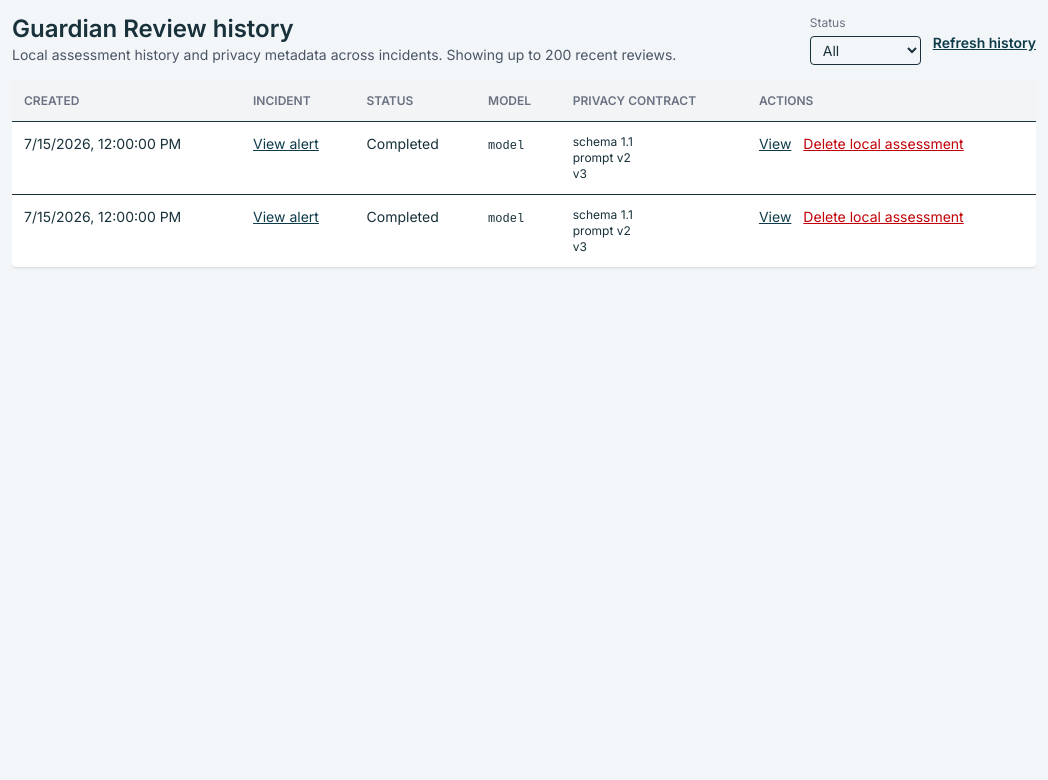
Test: Guardian Review global history › does not let a slower previously selected review replace the current one
This screenshot has width=1048, height=780.
Click the button with aria-label "View review older" at [775, 144], box [759, 134, 791, 154]
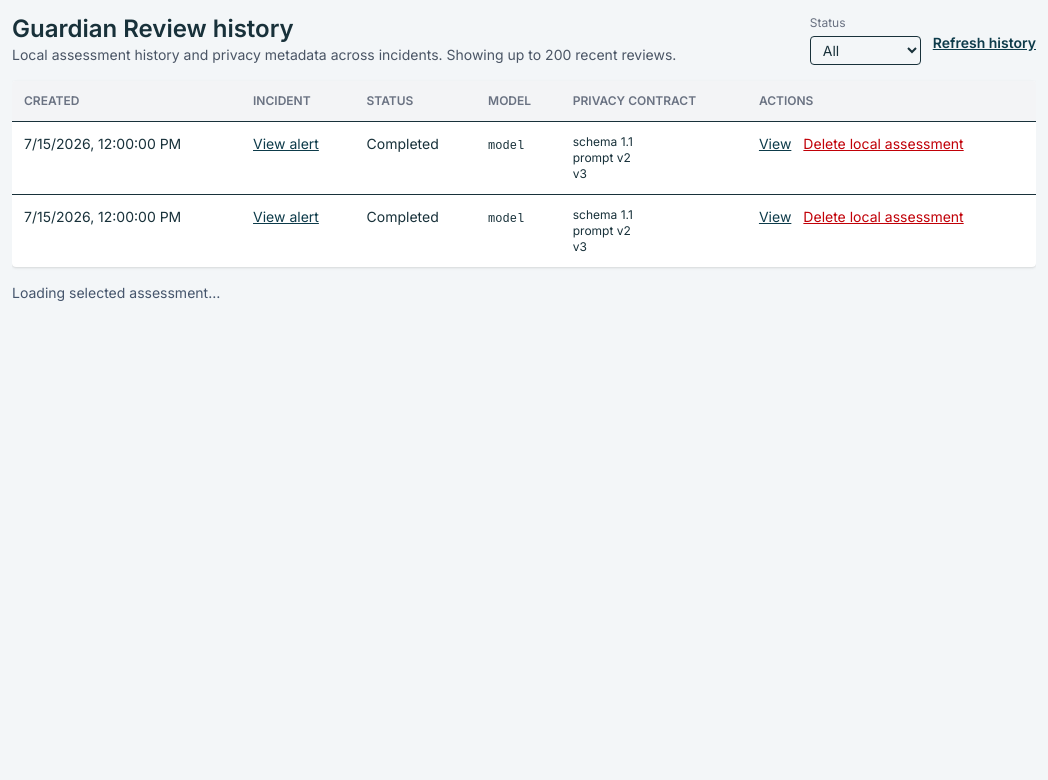
Click the button with aria-label "View review newer" at [775, 217], box [759, 207, 791, 227]
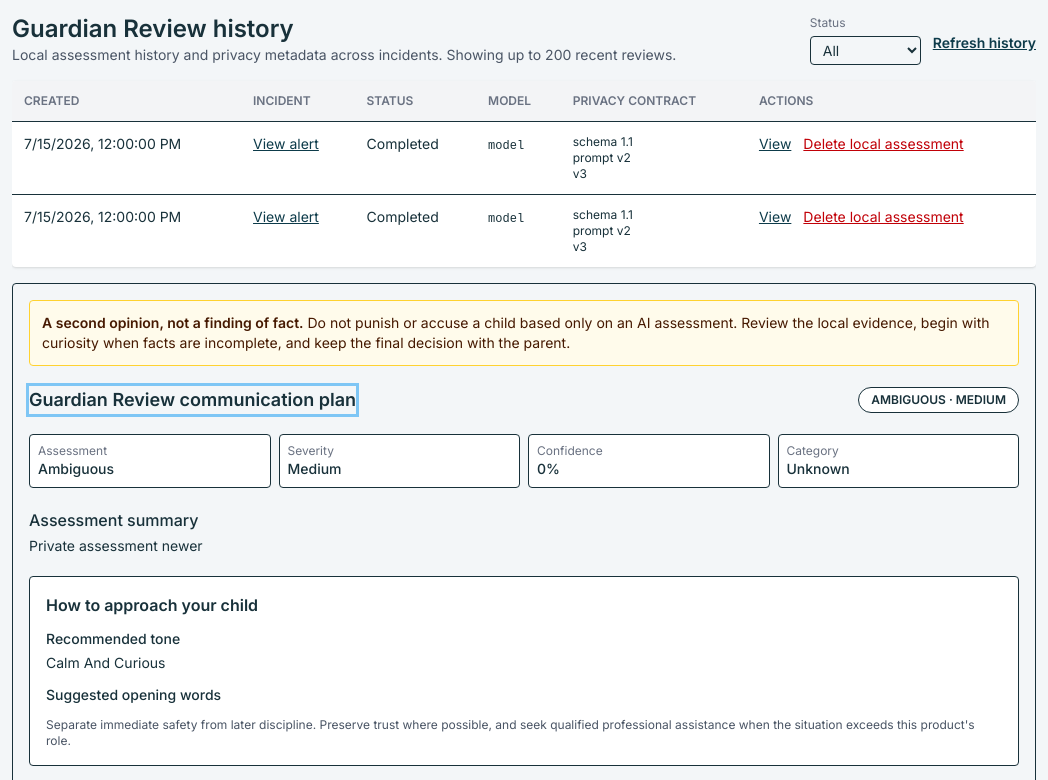
Expected: the text "Private assessment newer" is shown, [29, 537, 203, 554]
